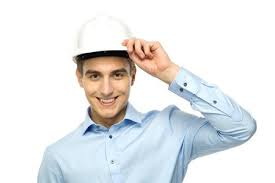Person_wearing_helmet: (72, 15, 141, 86)
